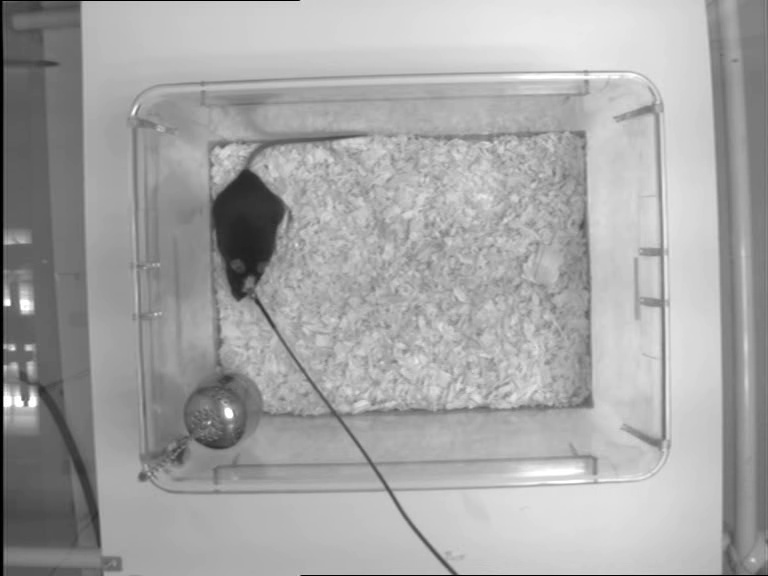mice: (210, 130, 367, 306)
